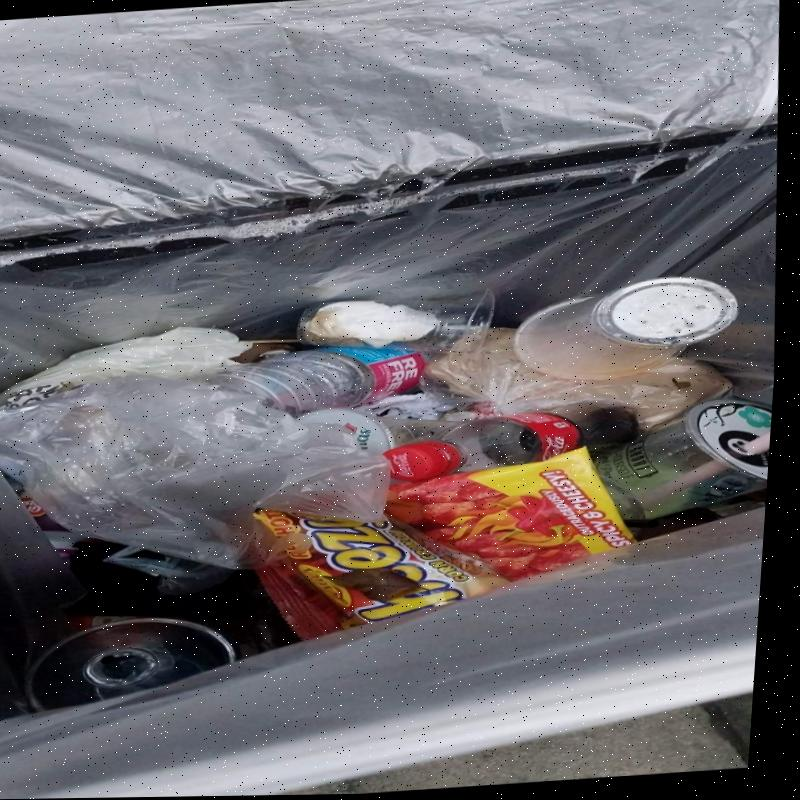food wrapper: (254, 447, 637, 641)
paper: (301, 301, 441, 348)
plastic bag: (0, 376, 396, 560), (0, 327, 253, 408)
plastic bottle: (383, 401, 639, 481), (194, 342, 434, 417)
plastic container: (514, 277, 739, 380), (594, 400, 772, 521), (298, 288, 495, 353)
plastic straw: (664, 433, 770, 492)
